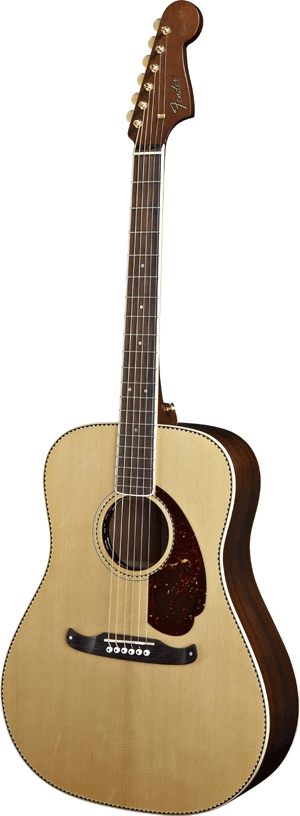guitar: (2, 1, 300, 812)
